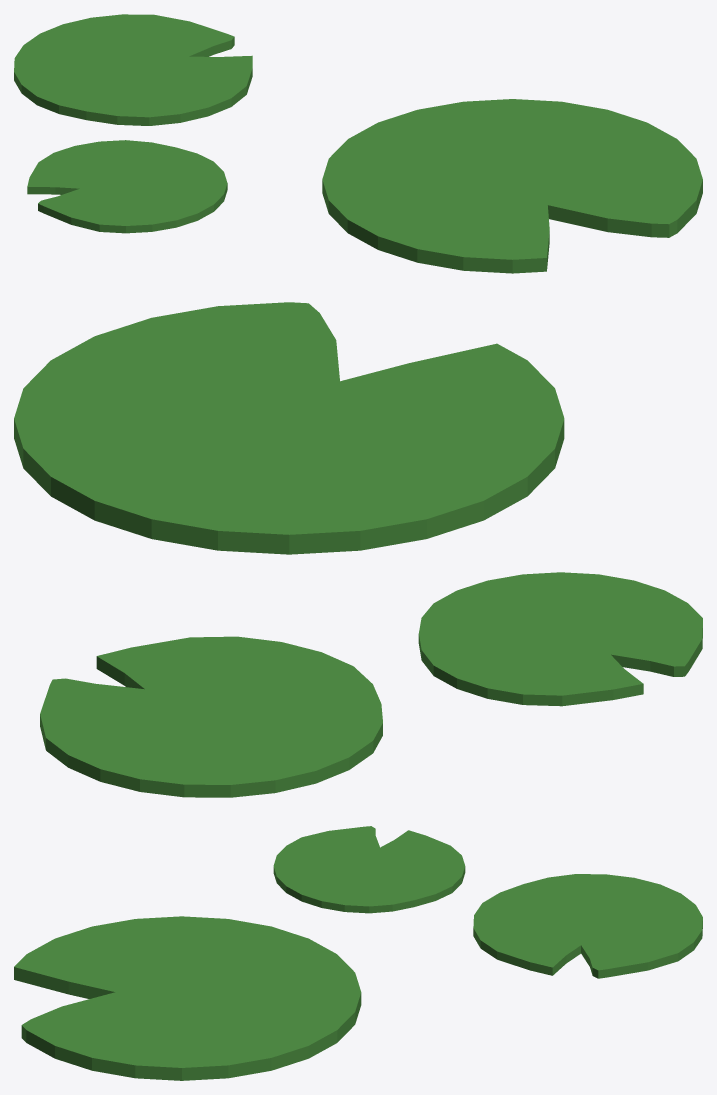
File: Lily group 2.fbx
3 views of the same model, one above another, from view 1: azimuth 30°, elevation 25°; view 2: azimuth 150°, elevation 25°; view 3: azimuth 270°, elevation 25° (orthographic). The views are drawn at different scales.
Parts seen in each view (by area): view 1: Lily group 2; view 2: Lily group 2; view 3: Lily group 2.
Boxes of the visible parts, box(x1,y1,x2,y2) form: Lily group 2: box(14, 14, 702, 273); Lily group 2: box(14, 302, 702, 797); Lily group 2: box(14, 826, 702, 1080).
Size of the model in its own units: 5.72 by 0.1389 by 6.71.
